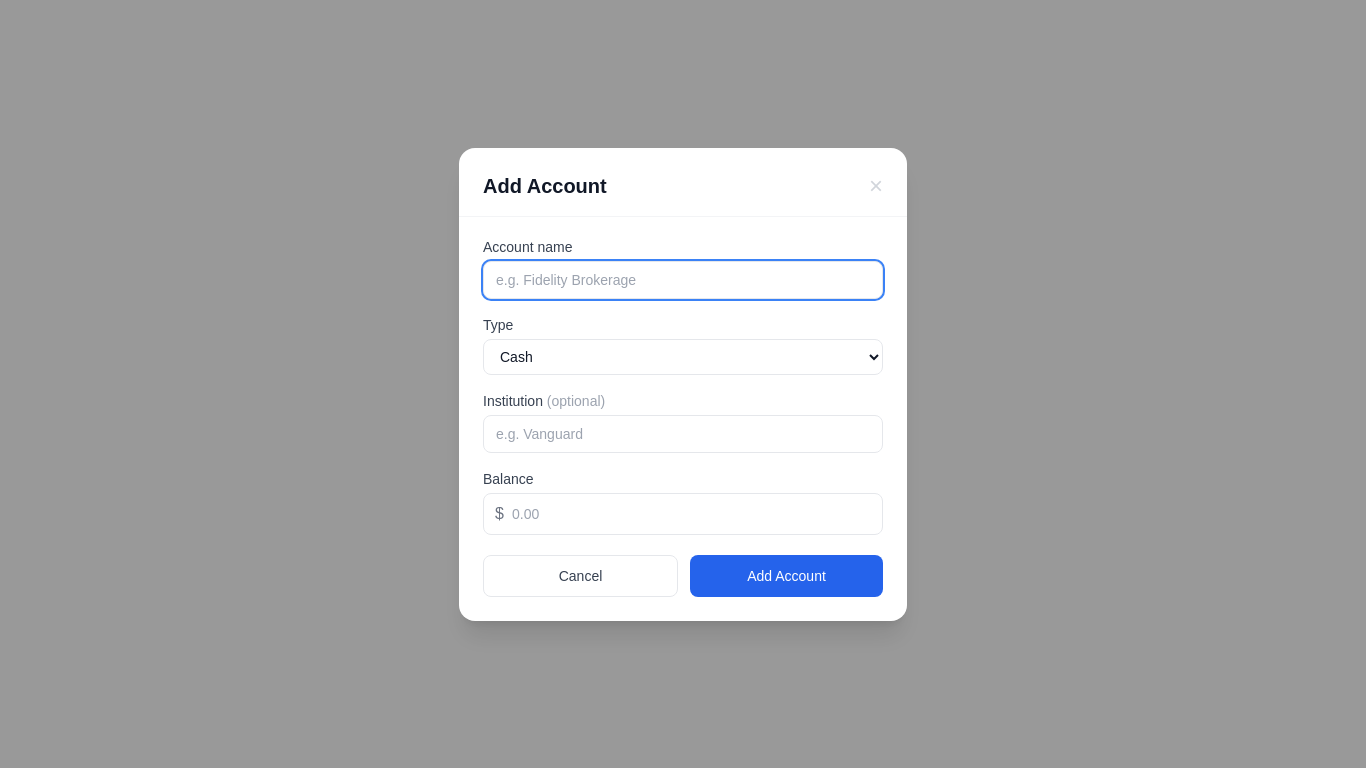
it: AccountEditModal — add mode › rejects a missing balance
Type "New Account" into the field labelled "Account name" at (683,280), box [483,260,883,298]
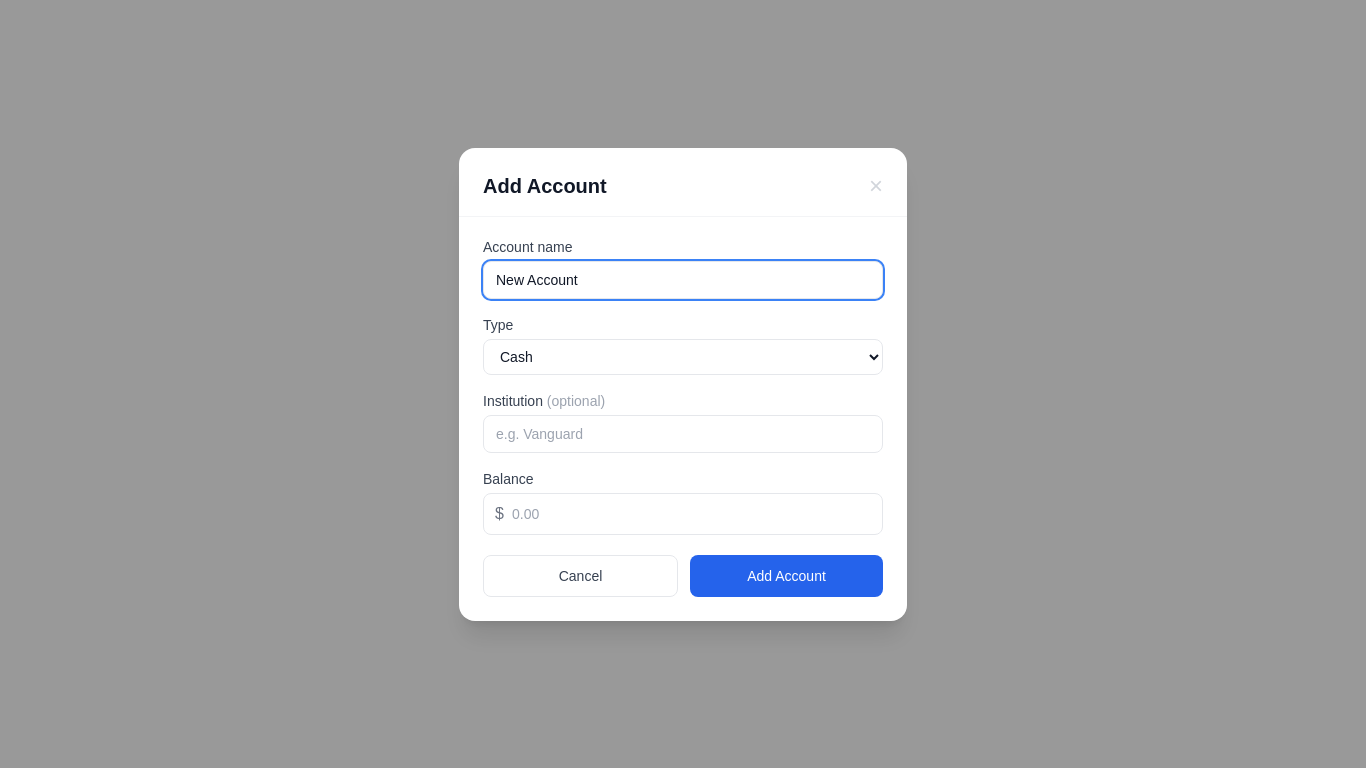
Click the button "Add Account" at (786,576), box [690,554,883,596]
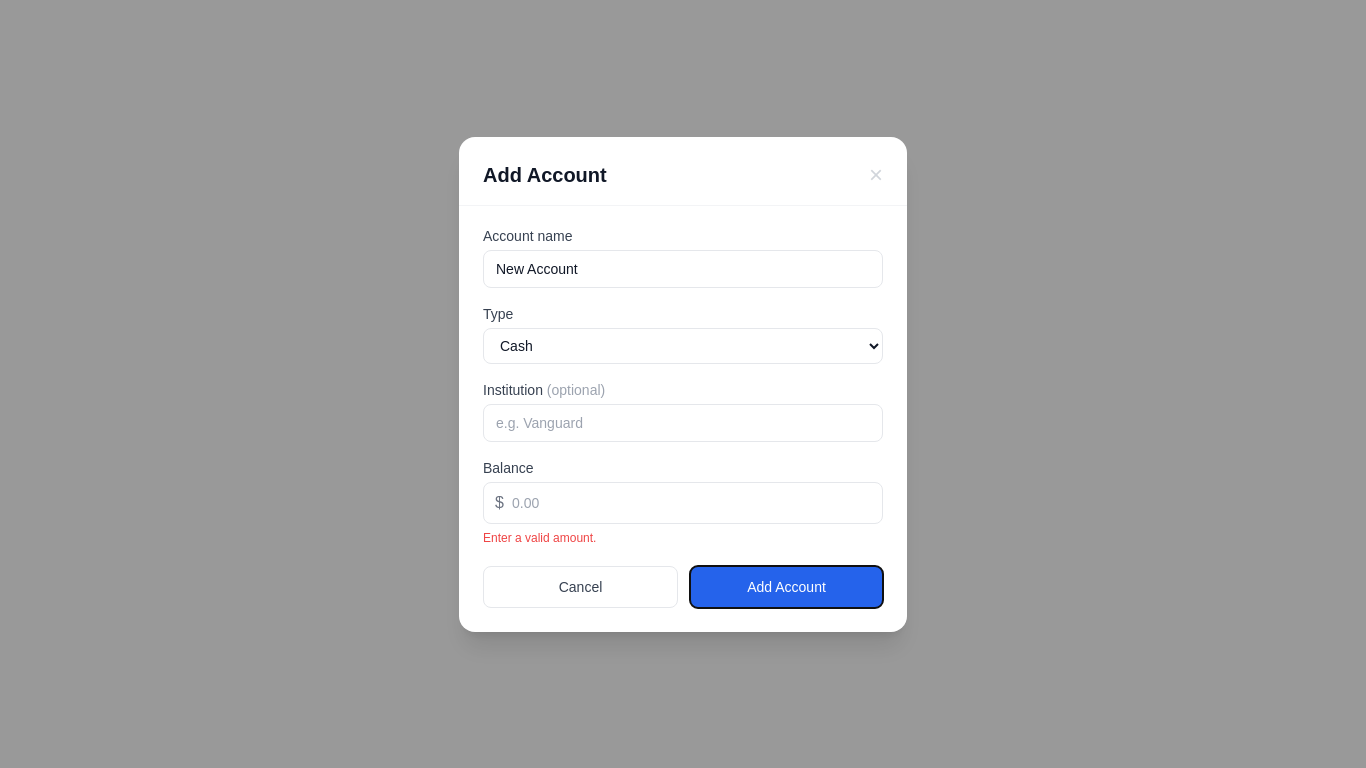
expect the text "Enter a valid amount." is shown: met, box [483,530,596,544]
